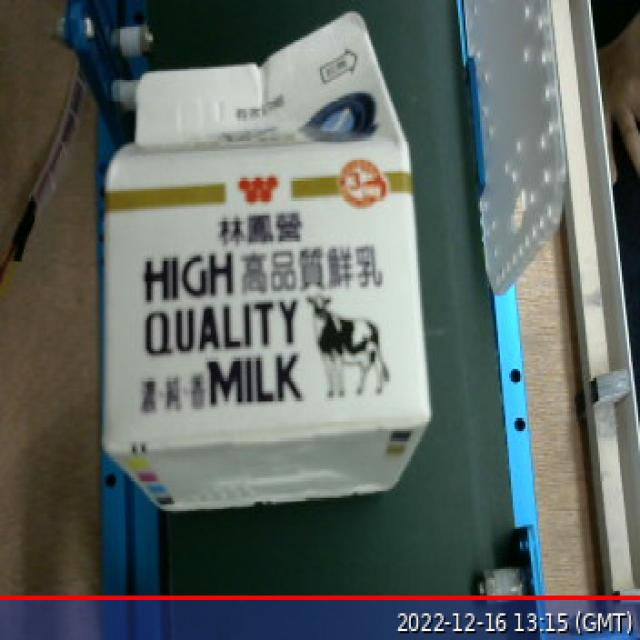non_white_jug: (78, 4, 450, 527)
